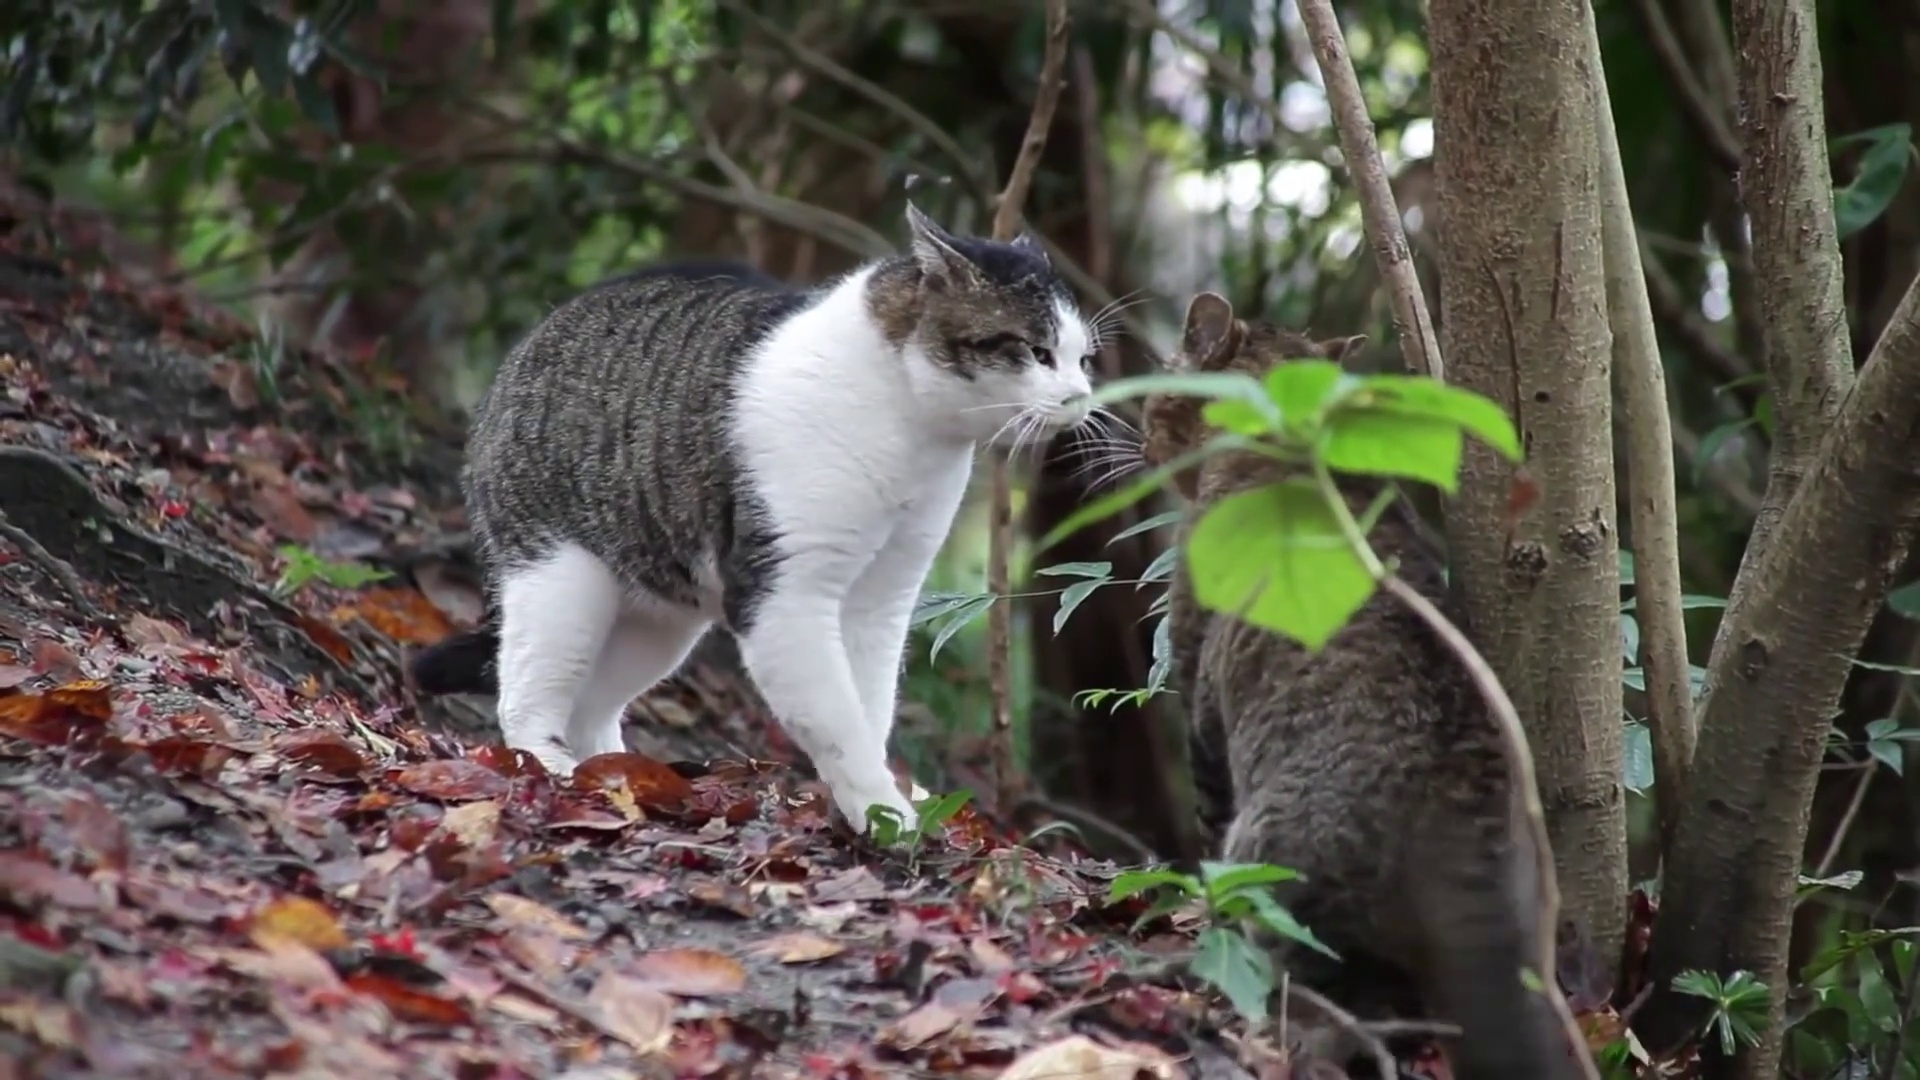black-white: (410, 196, 1095, 844)
pure black: (1137, 291, 1561, 1029)
